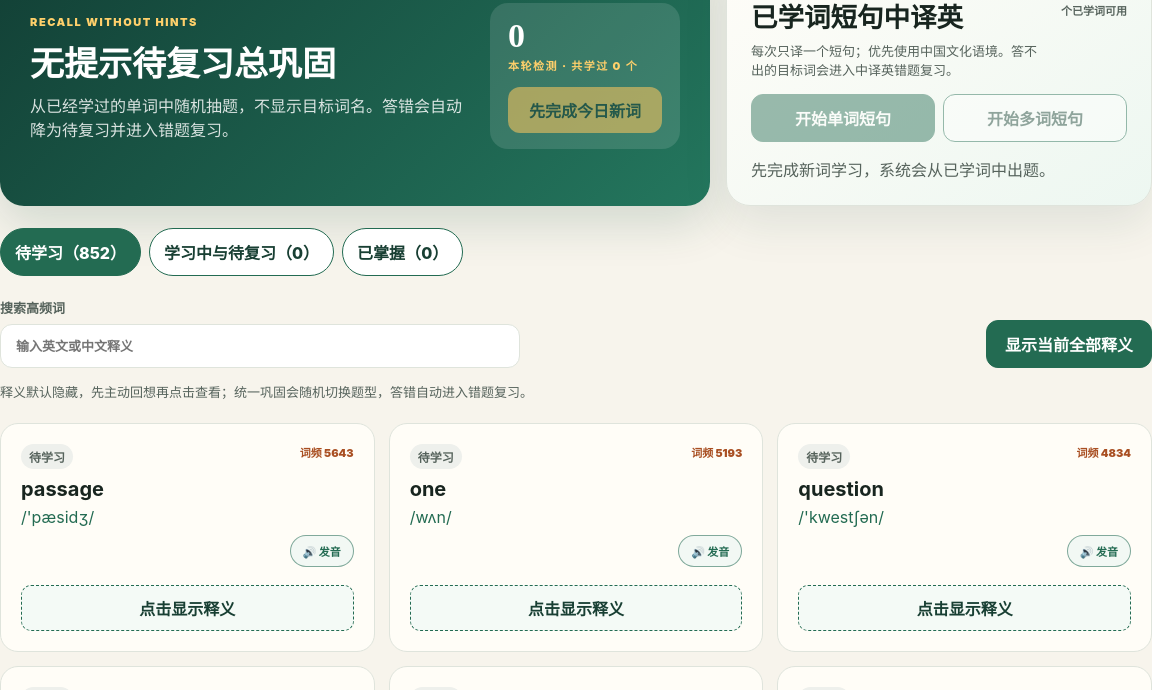
Test: KnowledgePage › shows and hides every currently visible meaning with one control
The width and height of the screenshot is (1152, 690).
(page scrolled)
Click the button "显示当前全部释义" at (1069, 344), box top-left (986, 320), bottom-right (1151, 368)
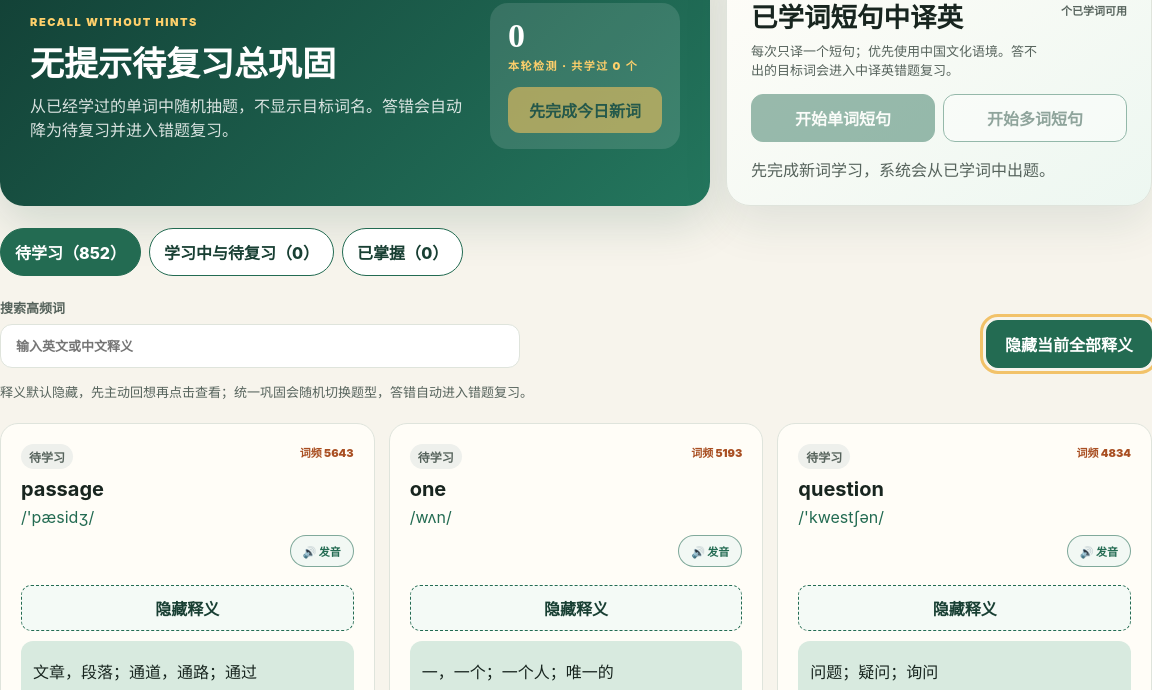
Expected: the text "文章，段落；通道，通路；通过" is shown, top-left (33, 662), bottom-right (257, 682)
Expected: the text "一，一个；一个人；唯一的" is shown, top-left (422, 662), bottom-right (614, 682)
Click the button "隐藏当前全部释义" at (1069, 344), box top-left (986, 320), bottom-right (1151, 368)
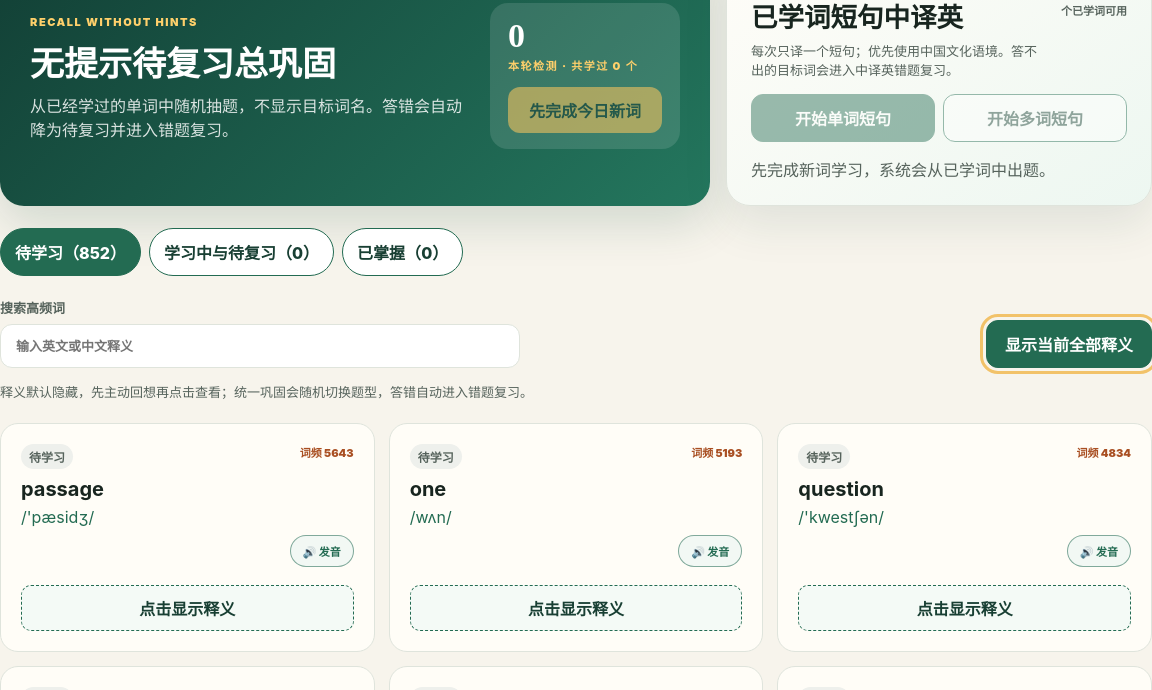
Expected: the text "文章，段落；通道，通路；通过" is gone
Expected: the text "一个人" is gone
